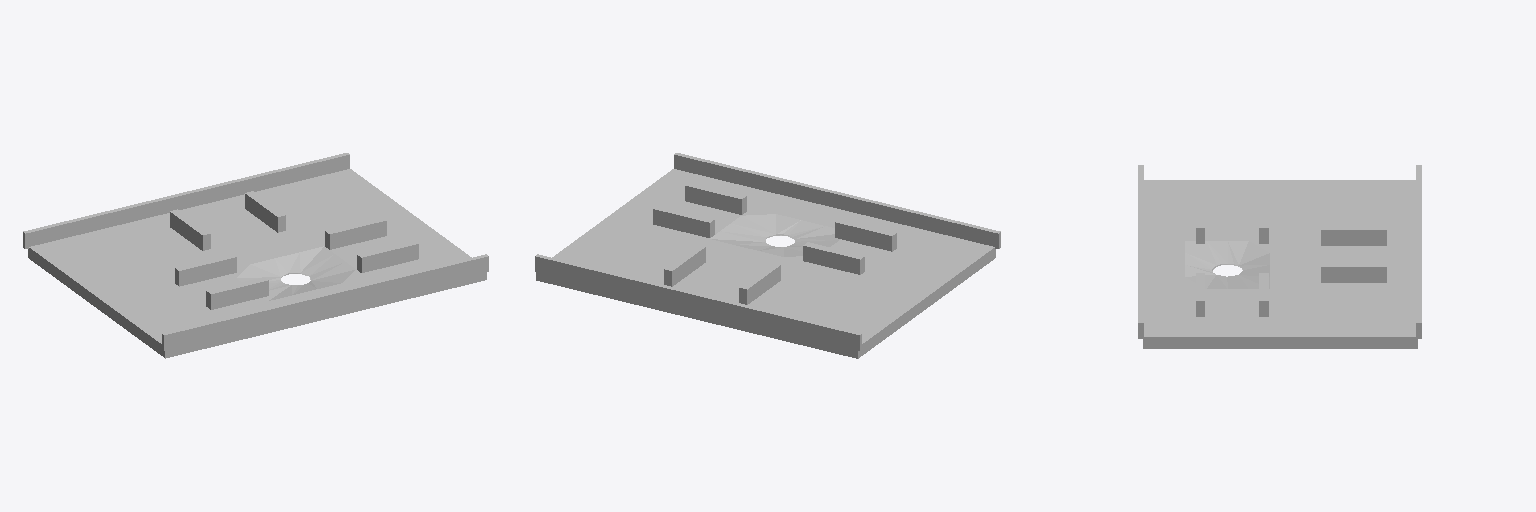
Rendered from 004_Mesa_madera.obj.
3 renders of one model, left to right at view 1: azimuth 30°, elevation 25°; view 2: azimuth 150°, elevation 25°; view 3: azimuth 270°, elevation 25°, orthographic.
Parts seen in each view (by area): view 1: Mesa_madera; view 2: Mesa_madera; view 3: Mesa_madera.
Part boxes in pixels (x1,y1,x2,y2): Mesa_madera: (23, 153, 488, 358); Mesa_madera: (535, 153, 1000, 358); Mesa_madera: (1138, 165, 1421, 348).
Bounding box in the file's own units: 19.91 × 1.59 × 15.03.